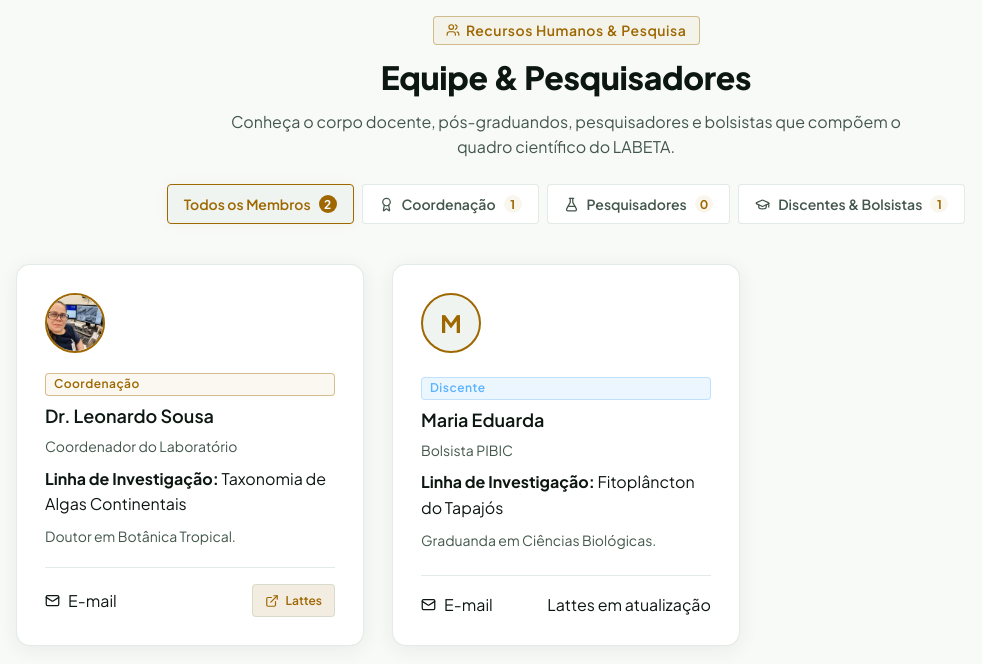
People Page Integration › filters members by category tabs
The image size is (982, 664).
Expected: the heading "Dr. Leonardo Sousa" is shown, [45,404,214,427]
Click the tab "Discentes & Bolsistas 1".
click(852, 204)  # box [738,184,965,224]
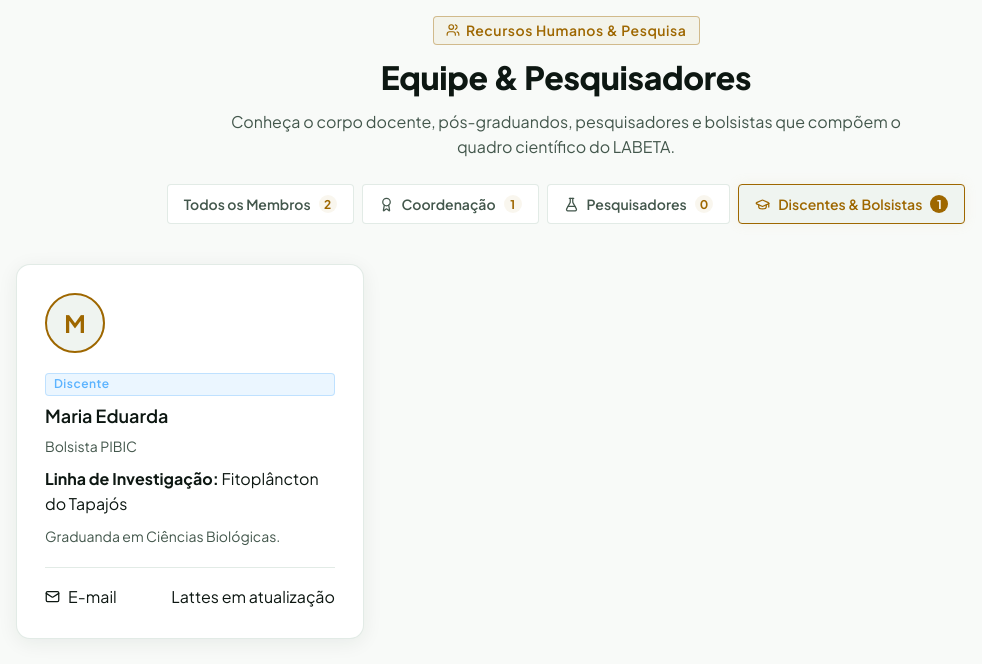
Expected: the heading "Maria Eduarda" is shown, [45,404,168,427]
Expected: the heading "Dr. Leonardo Sousa" is gone
